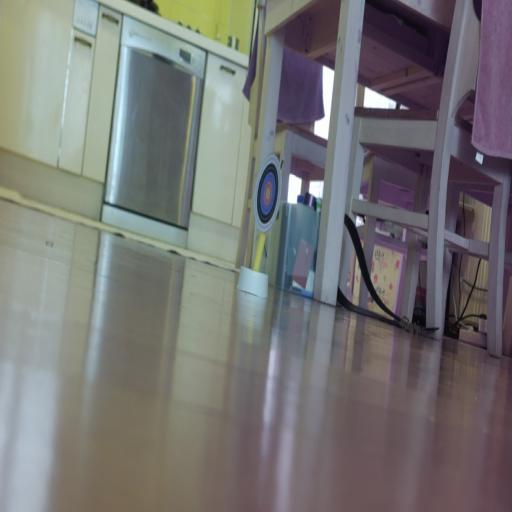target: (253, 154, 282, 233)
